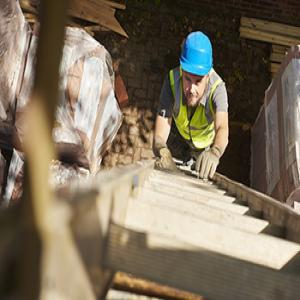blue: (181, 33, 212, 103)
